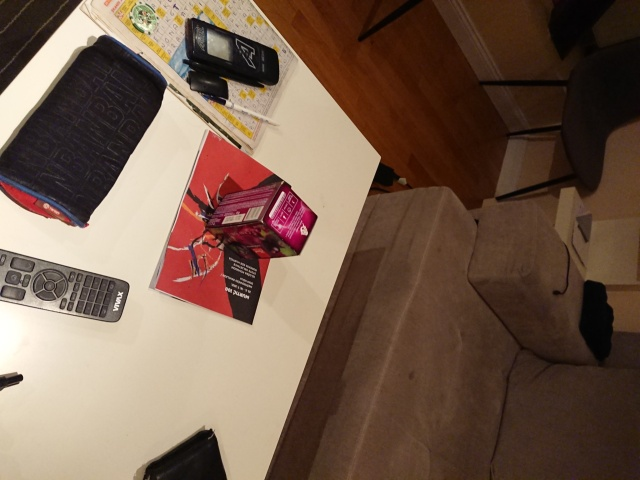Franck Black Currant Tea 60g: (203, 178, 320, 262)
